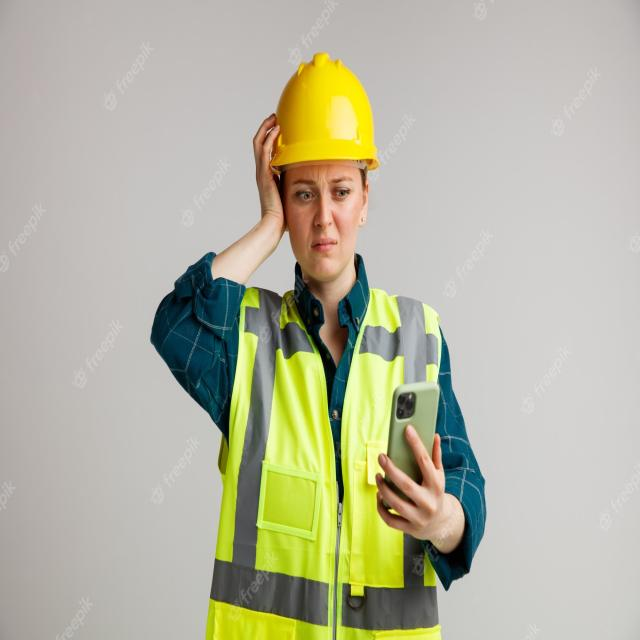helmet: (257, 53, 383, 182)
no-goggles: (277, 165, 373, 211)
vest: (230, 266, 440, 640)
